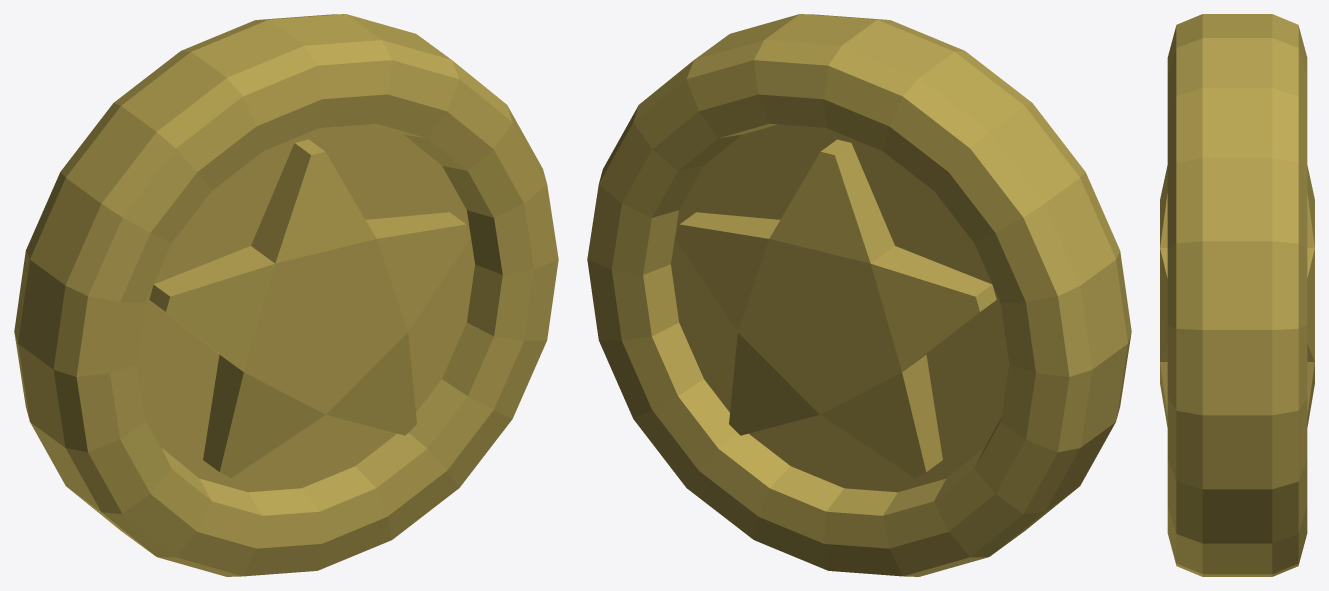
File: Coin_Star.glb
3 views of the same model, side by side, from view 1: azimuth 30°, elevation 25°; view 2: azimuth 150°, elevation 25°; view 3: azimuth 270°, elevation 25° (orthographic). The views are drawn at different scales.
Parts seen in each view (by area): view 1: Coin_Star_Cylinder.012; view 2: Coin_Star_Cylinder.012; view 3: Coin_Star_Cylinder.012.
Part boxes in pixels (x1,y1,x2,y2): Coin_Star_Cylinder.012: (14,14,558,576); Coin_Star_Cylinder.012: (587,14,1131,576); Coin_Star_Cylinder.012: (1160,14,1314,576).
Size of the model in its own units: 0.7367 by 0.7376 by 0.2011.
